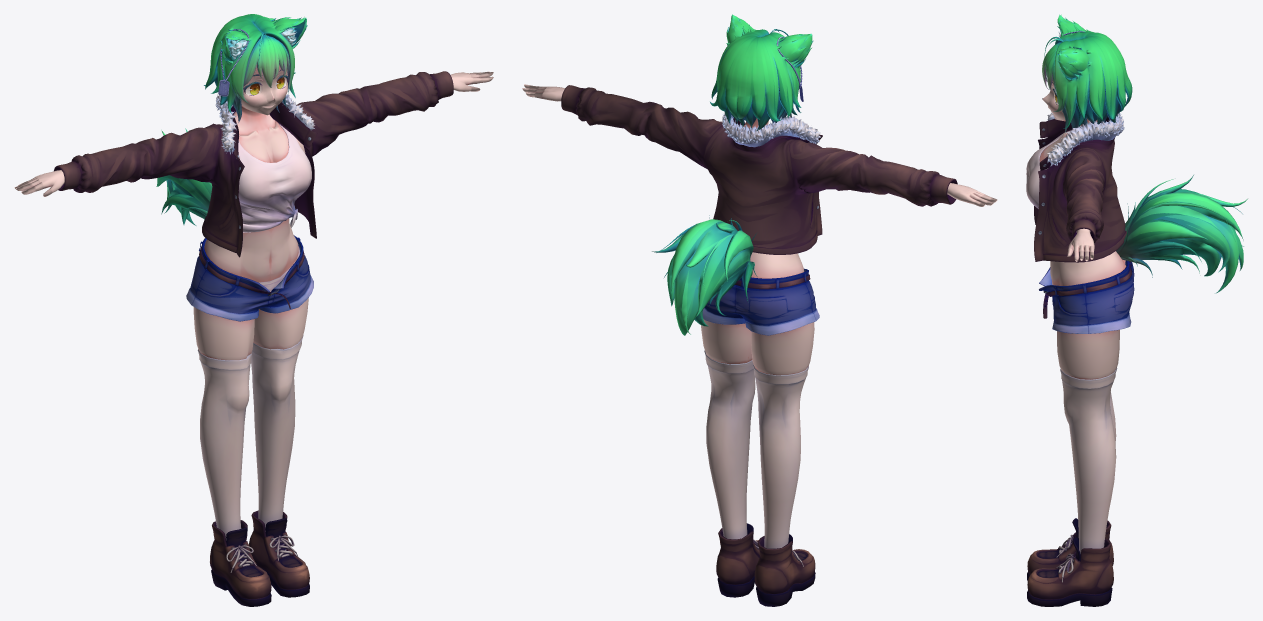
File: shibahu.glb
3 renders of one model, left to right at view 1: azimuth 30°, elevation 25°; view 2: azimuth 150°, elevation 25°; view 3: azimuth 270°, elevation 25°, orthographic.
Visible parts, largest first — view 1: Shibahu; view 2: Shibahu; view 3: Shibahu.
Boxes of the visible parts, <box> form: Shibahu: <box>14,14,493,606</box>; Shibahu: <box>522,14,997,606</box>; Shibahu: <box>1026,14,1247,606</box>.
Size of the model in its own units: 139 by 156 by 56.57.
Materials: 6 (6 with a texture image).
